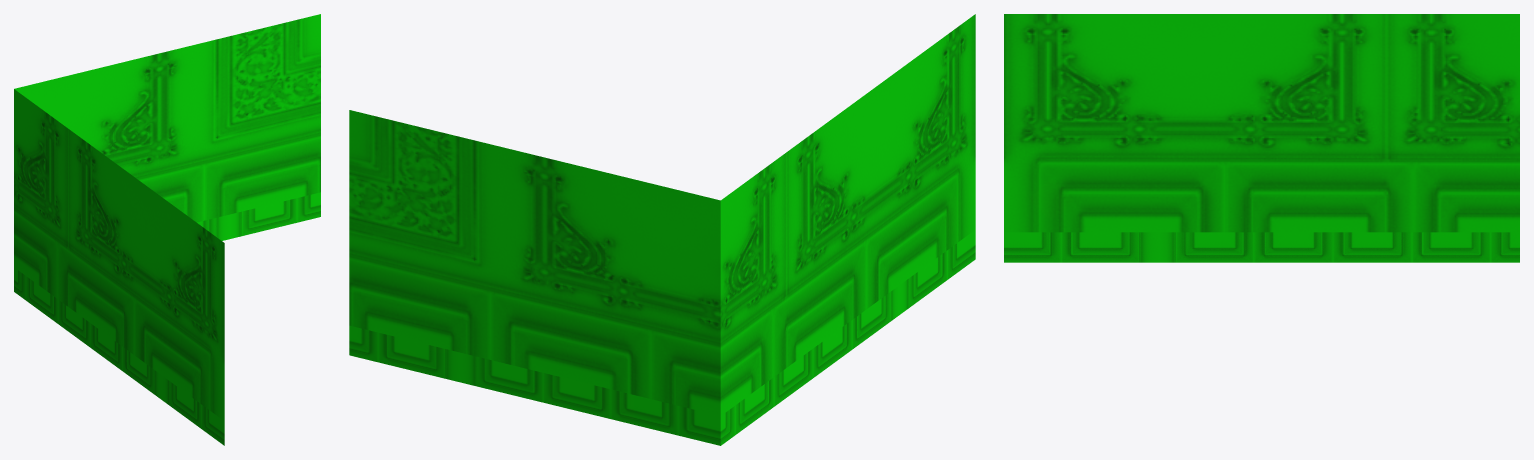
The picture shows the model from 3 angles, left to right: view 1: azimuth 30°, elevation 25°; view 2: azimuth 150°, elevation 25°; view 3: azimuth 270°, elevation 25°; orthographic projection. The views are drawn at different scales.
Visible parts, largest first — view 1: 복도 벽3; view 2: 복도 벽3; view 3: 복도 벽3.
Boxes of the visible parts, left/top/right/bottom form: 복도 벽3: left=14, top=14, right=320, bottom=445; 복도 벽3: left=349, top=14, right=975, bottom=445; 복도 벽3: left=1004, top=14, right=1519, bottom=262.
Size of the model in its own units: 313 by 198 by 372.
